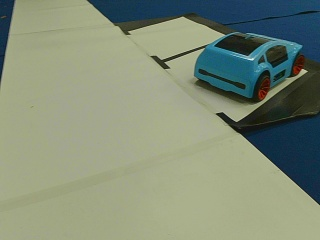car: (193, 31, 305, 102)
